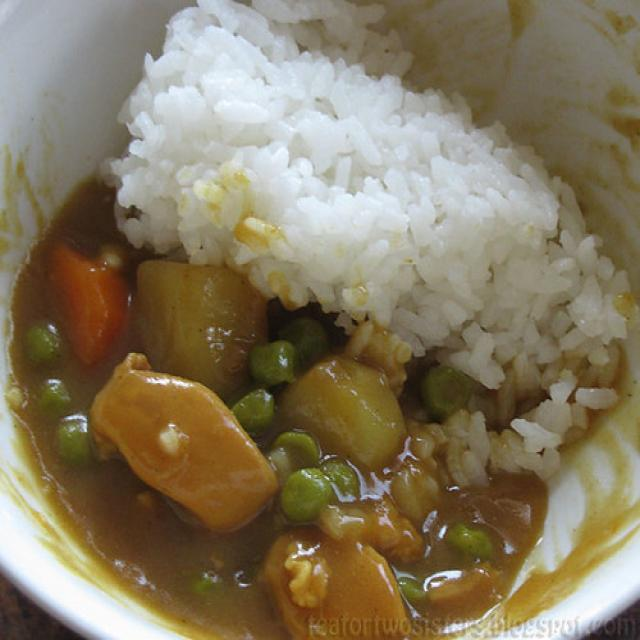Wet: (14, 28, 640, 640)
